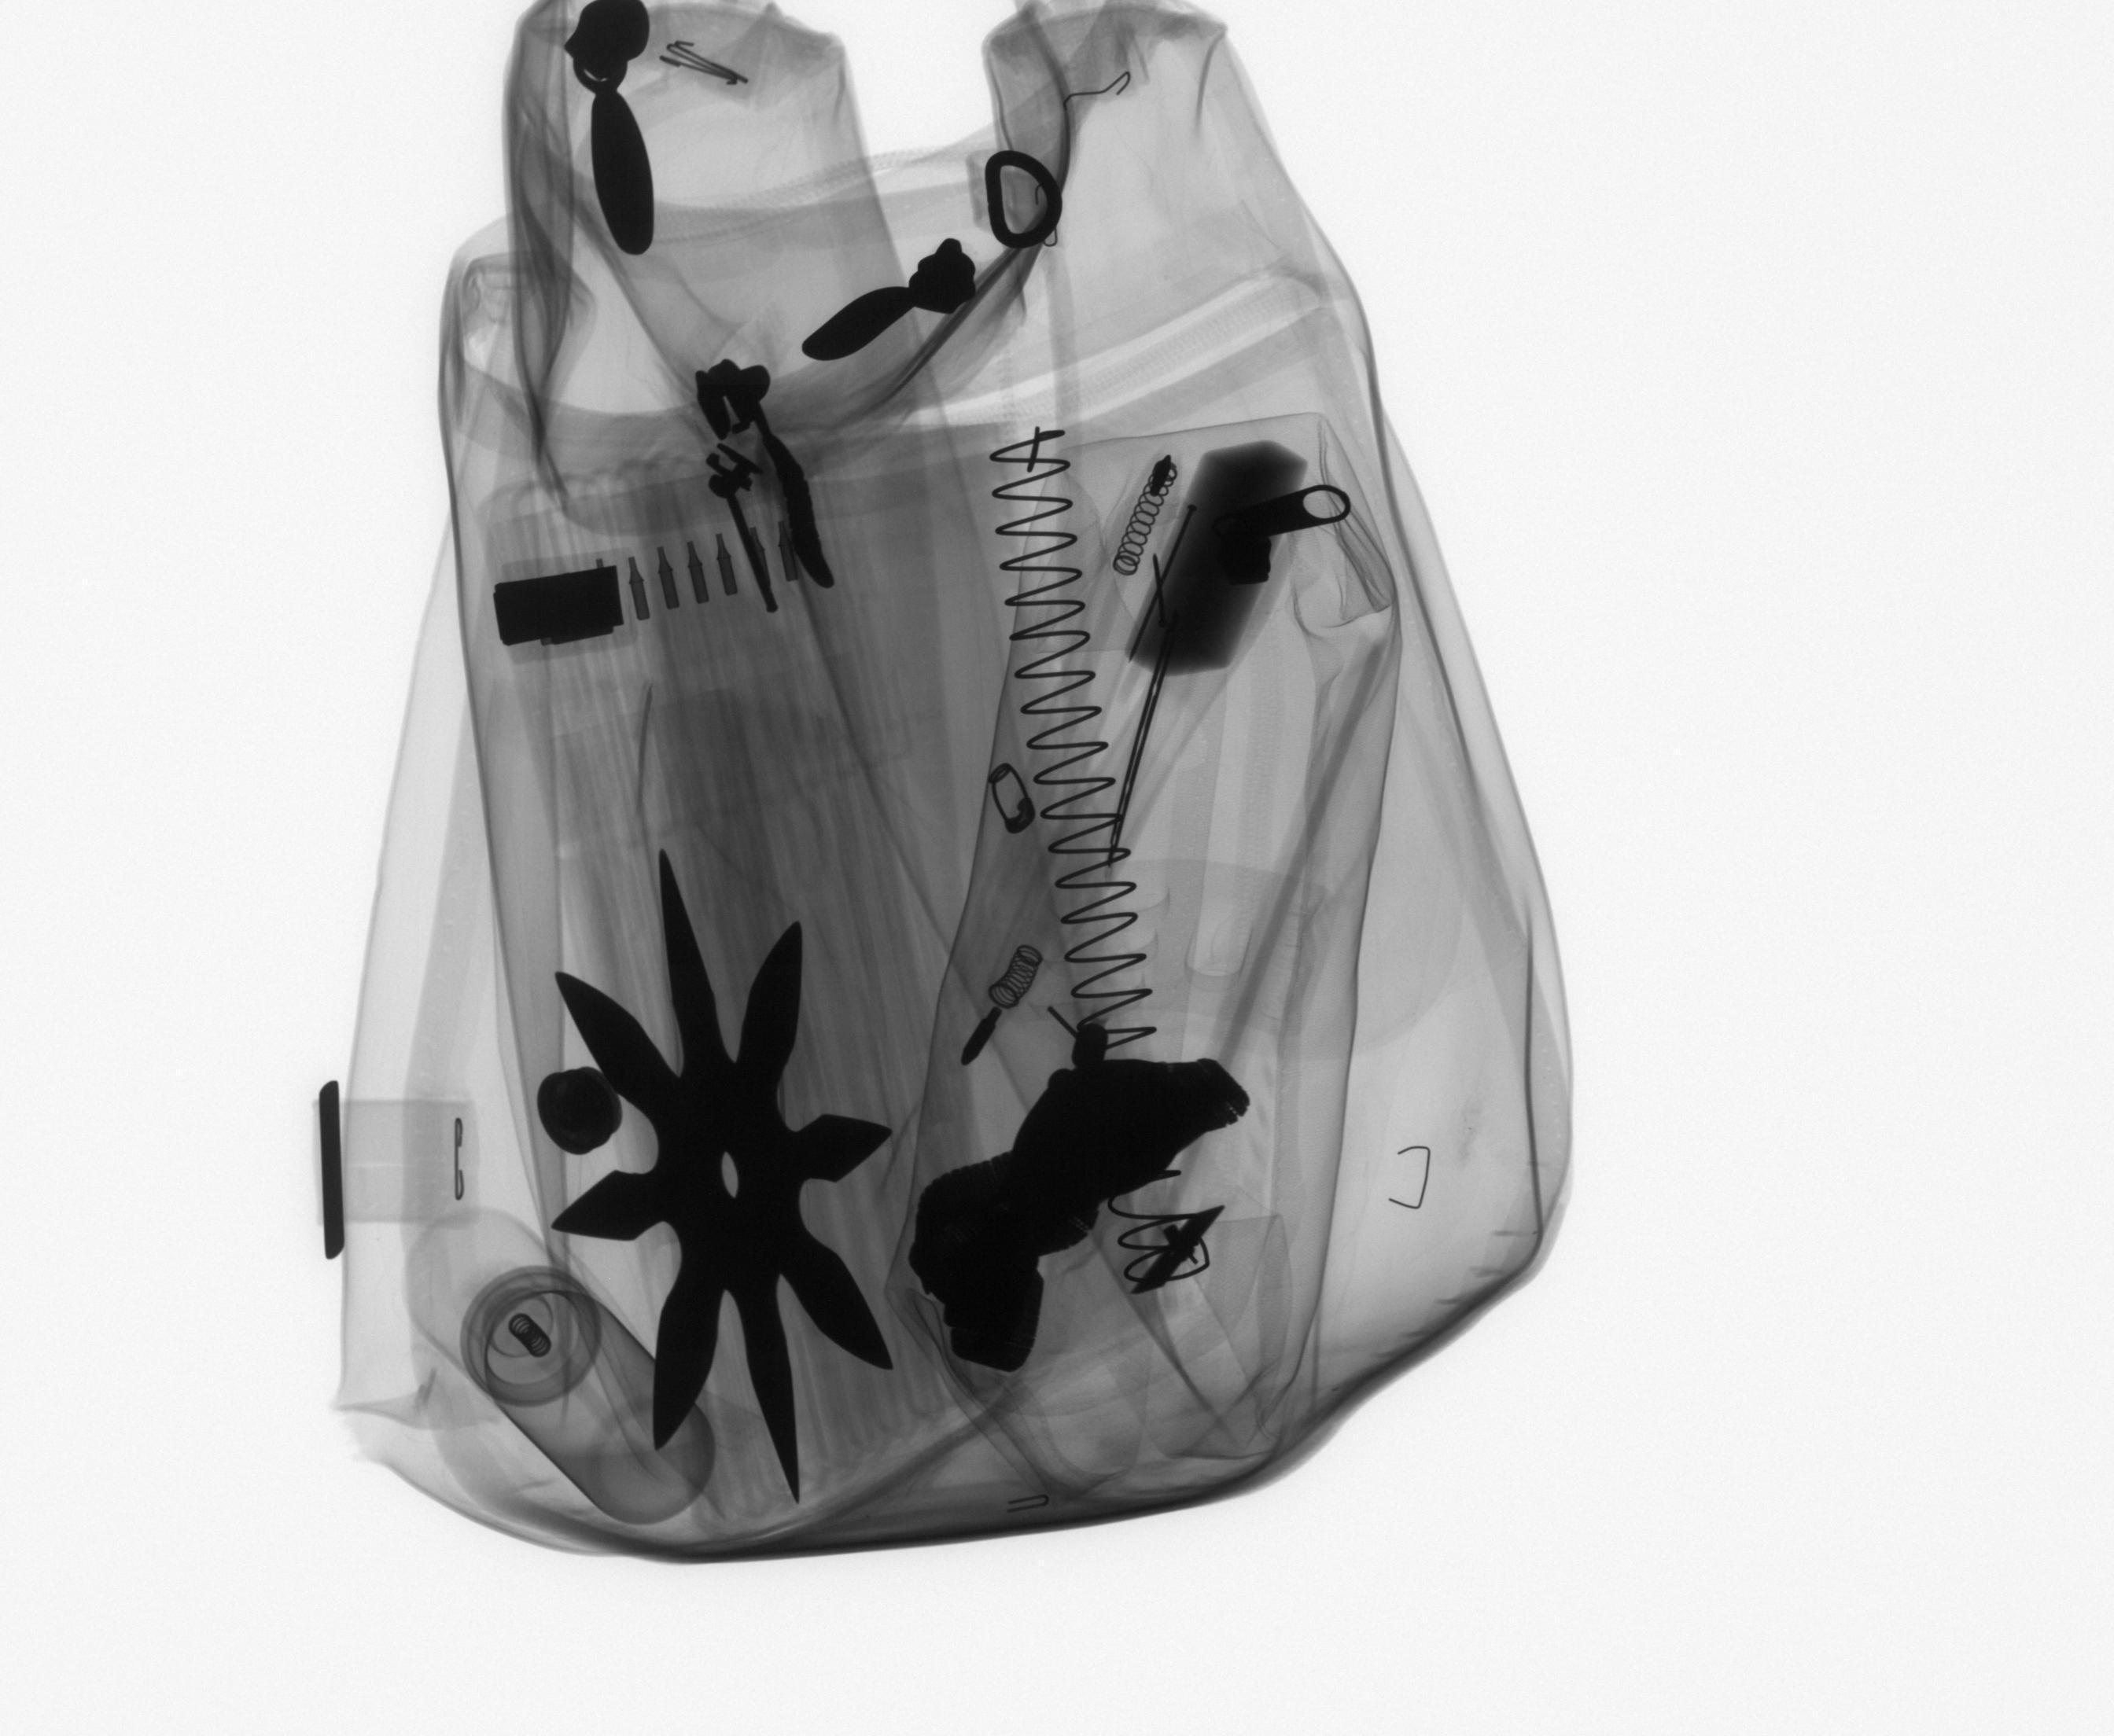Shuriken: (537, 835, 912, 1513)
